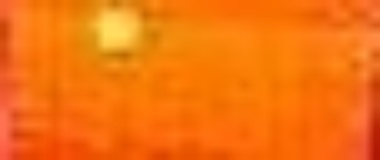Hotspot: (93, 4, 153, 53)
